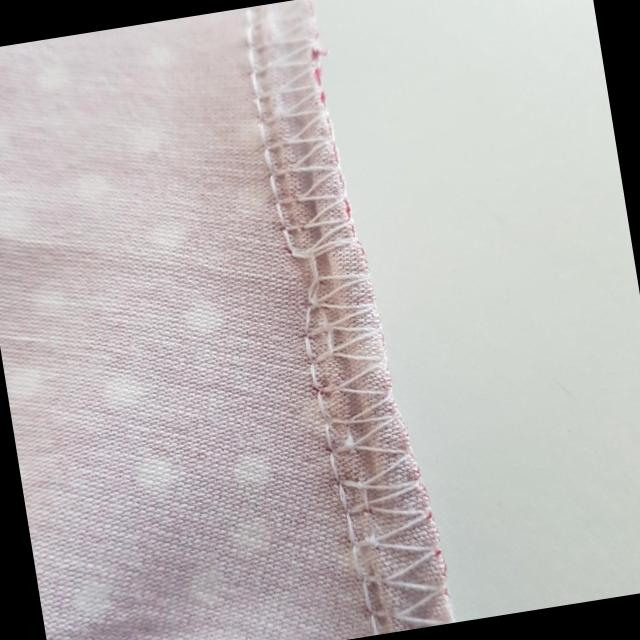gray stitch: (236, 0, 456, 640)
